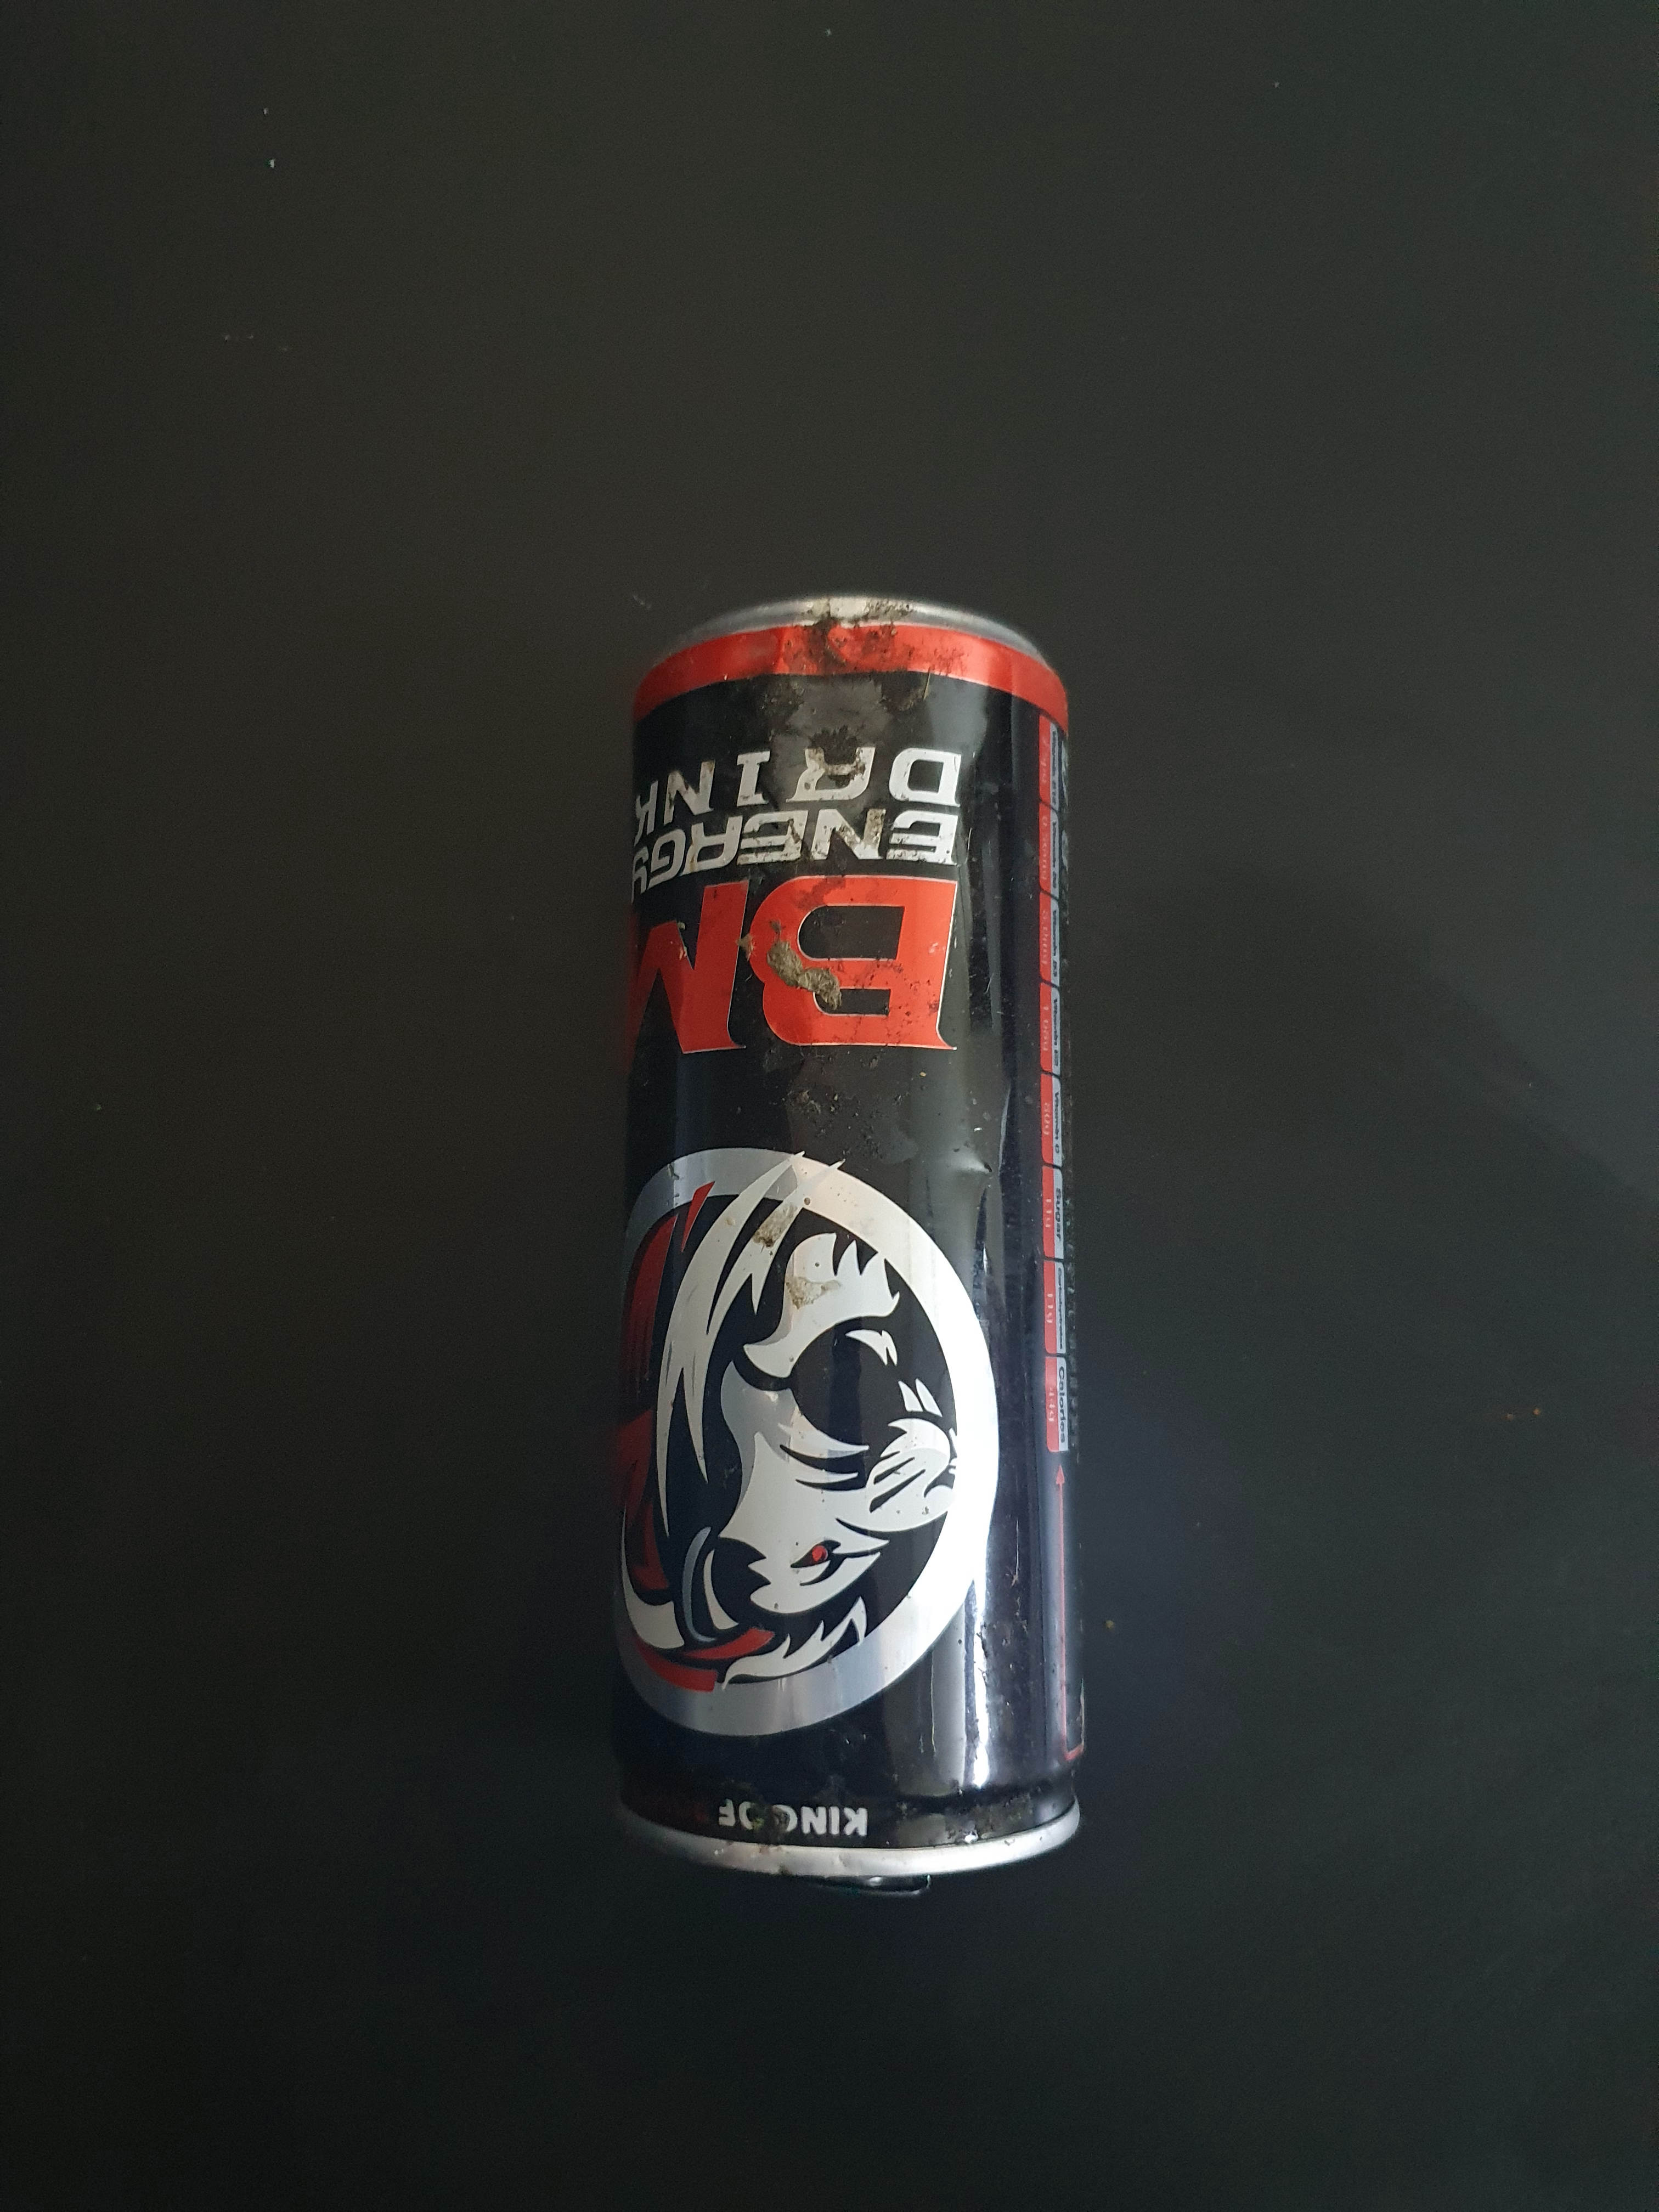metal: (577, 538, 1148, 1919)
